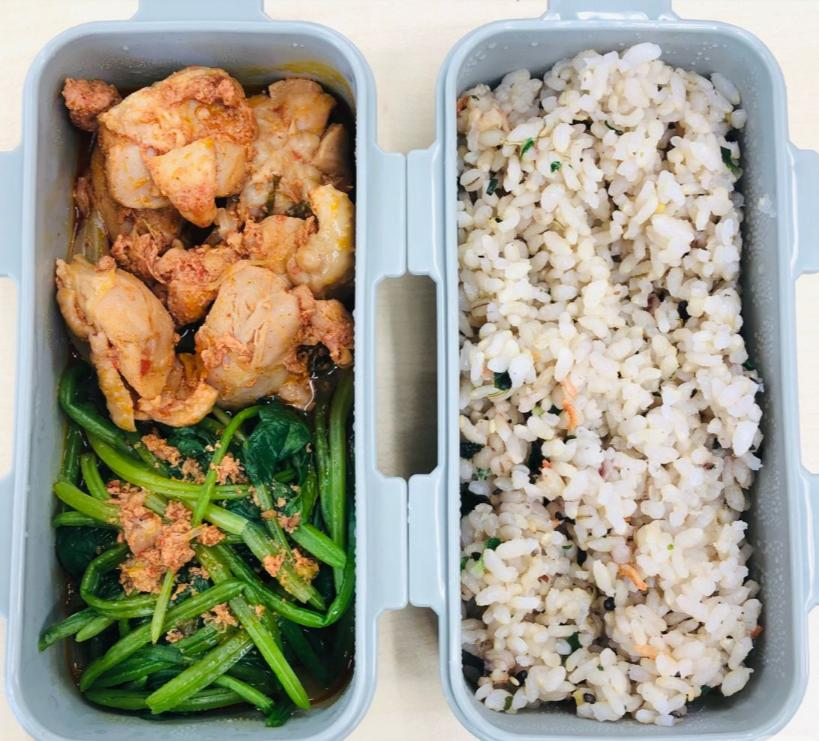buah_sayur_lainnya: (70, 432, 339, 691)
daging: (83, 84, 334, 375)
makanan_berpati: (497, 82, 751, 687)
